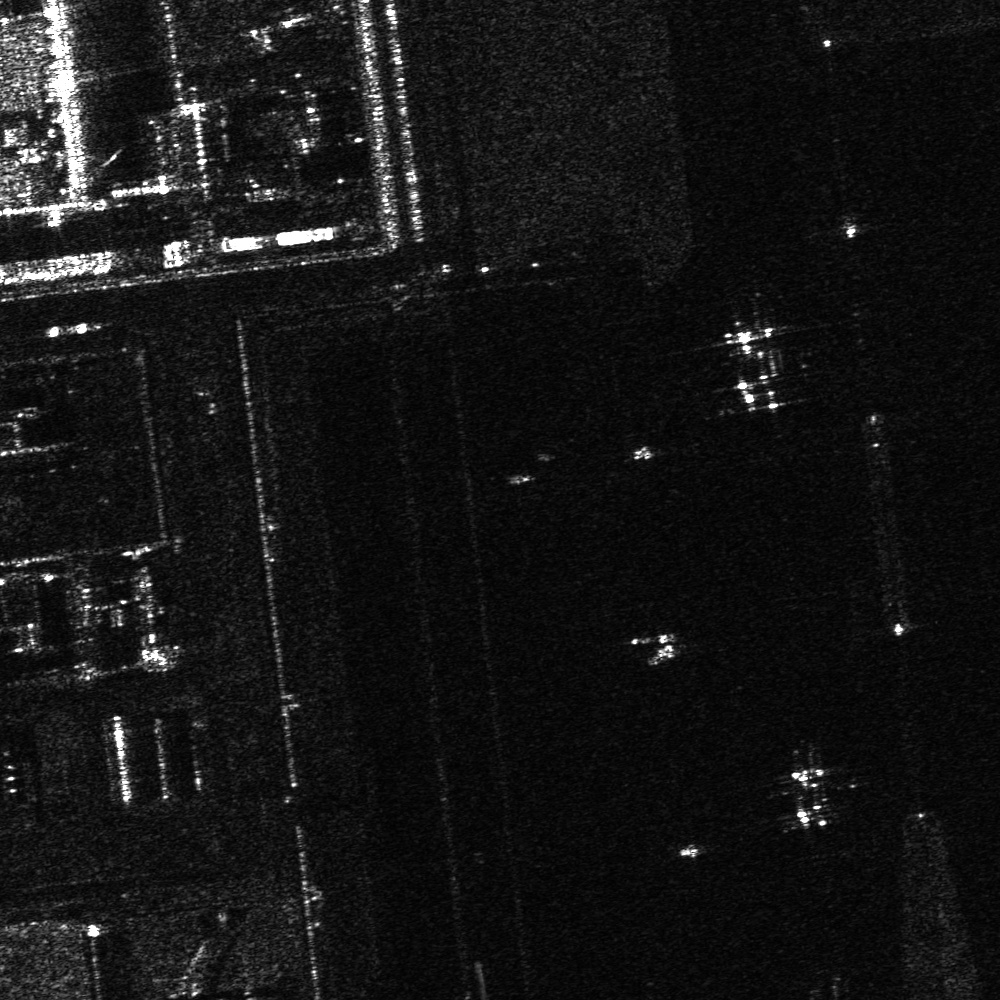Boeing787: (759, 736, 859, 834)
other: (680, 302, 815, 422)
